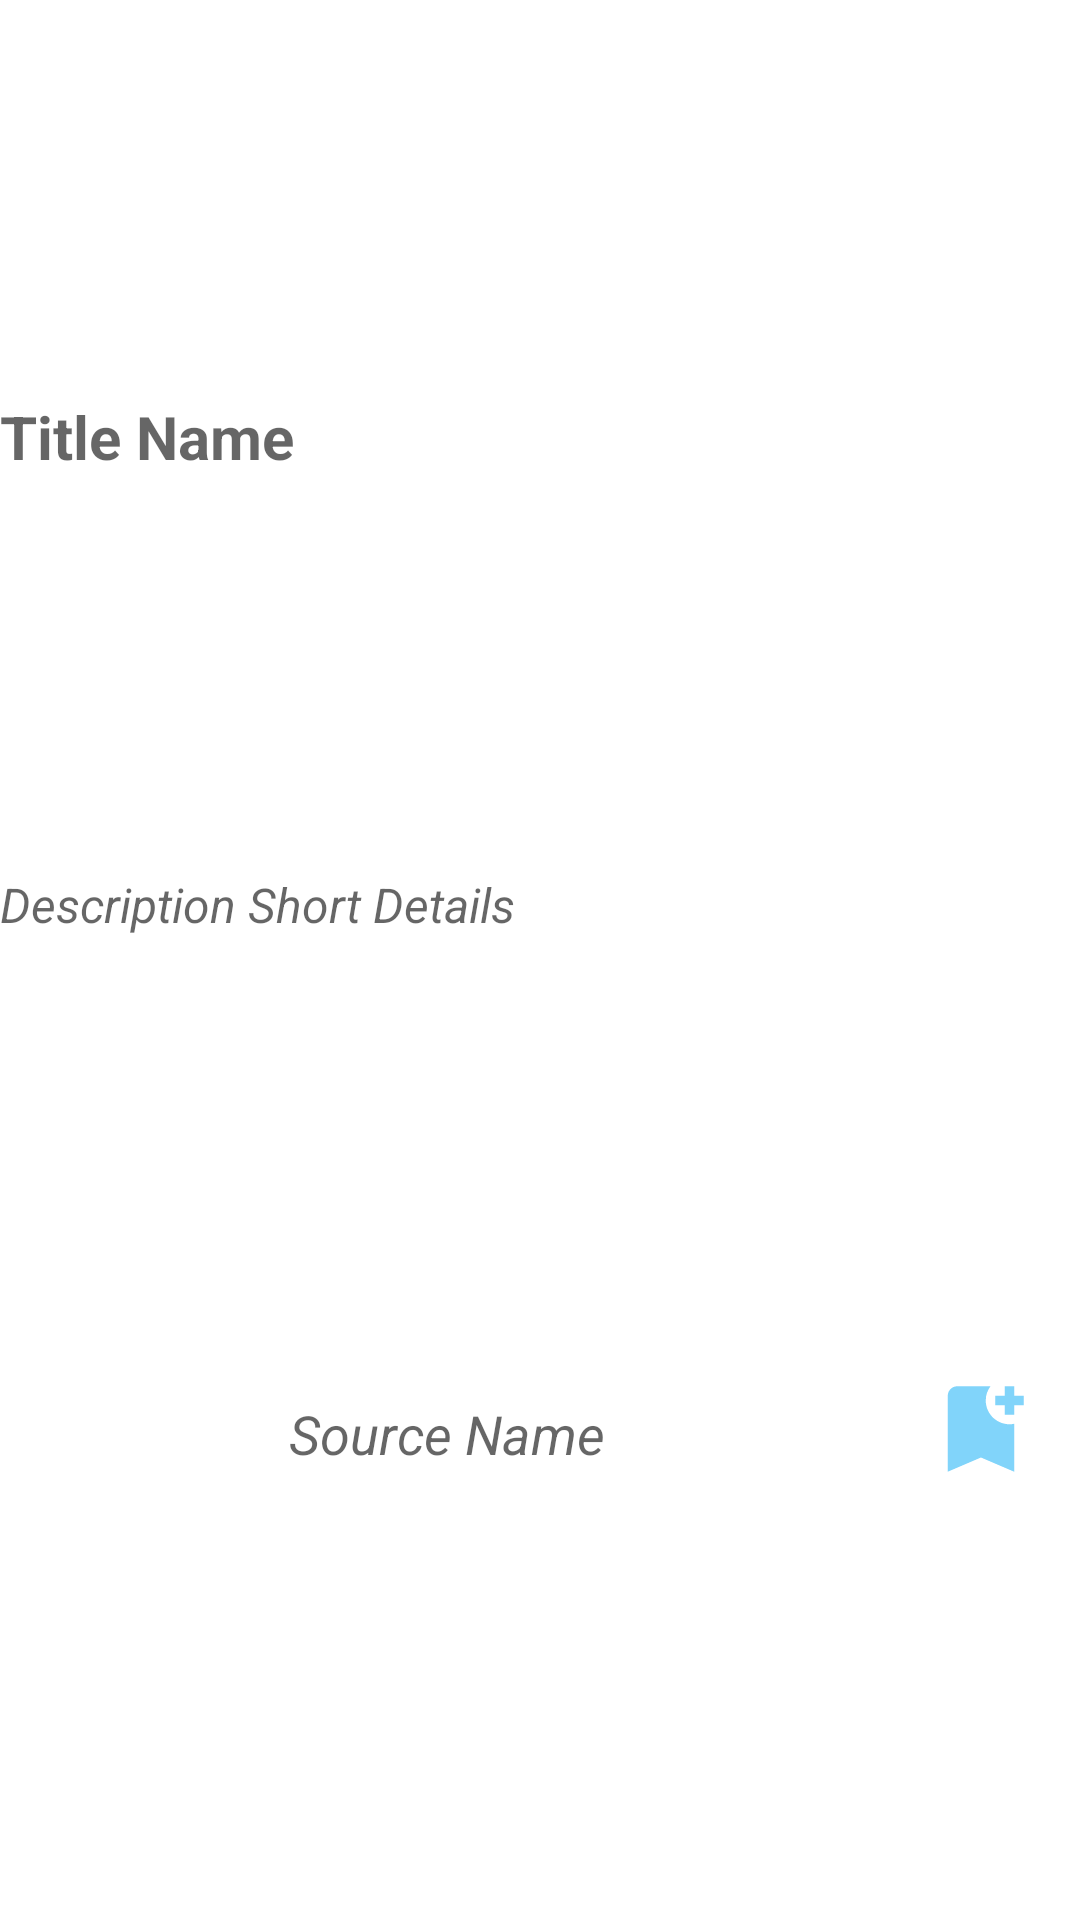

Where icons sit on this 1080x1920 app screen, as box=[x1, y1, x2, y2]:
bookmark button: box=[947, 1386, 1024, 1472]
